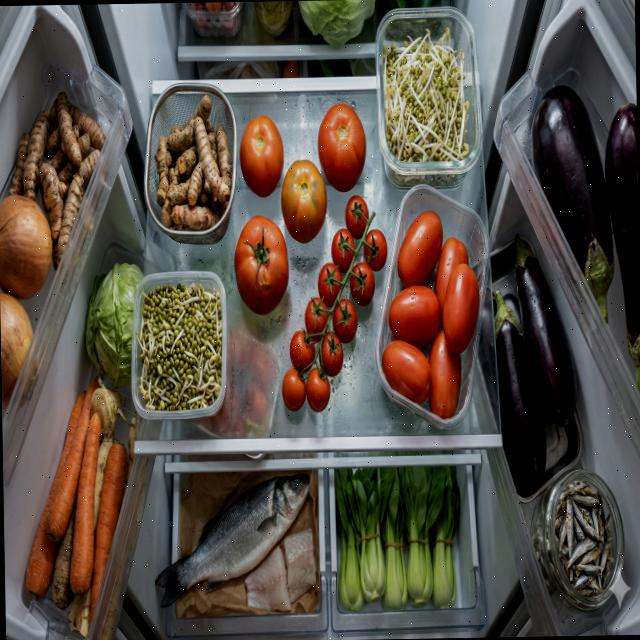anchovies: (531, 478, 615, 599)
cabbage: (84, 261, 146, 390), (299, 0, 375, 49)
carrot: (22, 375, 130, 628)
eggplant: (529, 82, 640, 394), (492, 232, 579, 494)
fish: (152, 474, 318, 614)
onion: (0, 193, 55, 410)
pakchoy: (334, 464, 462, 612)
tomato: (278, 194, 390, 414), (378, 210, 482, 420), (232, 216, 290, 318), (316, 102, 366, 192), (280, 160, 328, 244), (238, 114, 284, 197)
turmeric: (6, 90, 108, 274), (152, 94, 232, 232)
